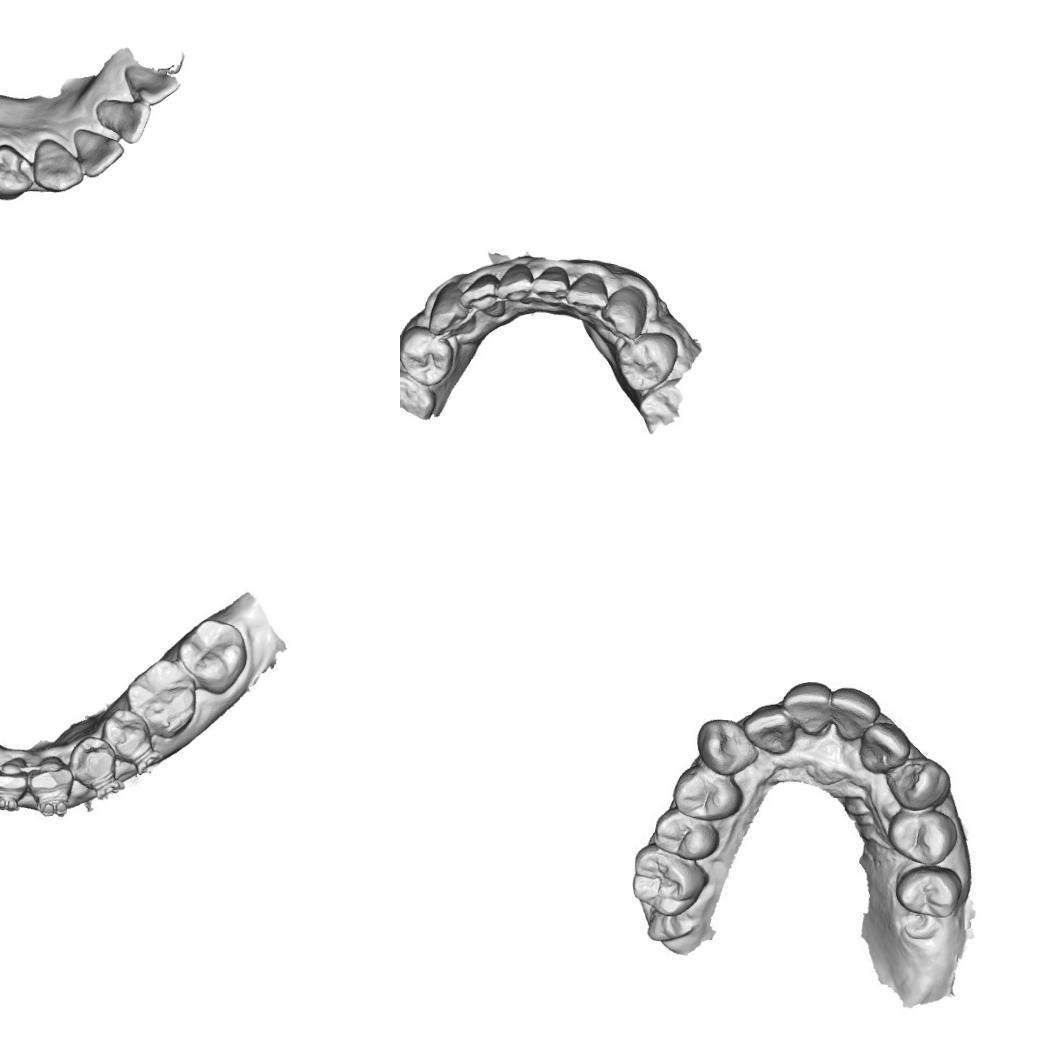canine: (882, 754, 951, 812), (692, 719, 758, 774), (31, 137, 87, 194), (600, 282, 652, 341), (428, 279, 478, 338), (30, 754, 69, 798)
incisor: (738, 702, 796, 756), (71, 126, 126, 180), (122, 62, 182, 110), (95, 96, 152, 146), (783, 680, 834, 734), (832, 685, 879, 740), (860, 722, 909, 771), (461, 274, 506, 320), (564, 269, 607, 317), (495, 258, 534, 306), (534, 264, 570, 308), (0, 757, 25, 796)
molar: (624, 844, 714, 918), (128, 661, 194, 730), (183, 619, 245, 686)
premolar: (613, 328, 682, 393), (895, 864, 968, 921), (886, 809, 954, 869), (400, 326, 456, 388), (655, 810, 718, 865), (676, 767, 736, 814), (0, 141, 37, 202), (104, 710, 149, 756), (74, 739, 121, 781)
